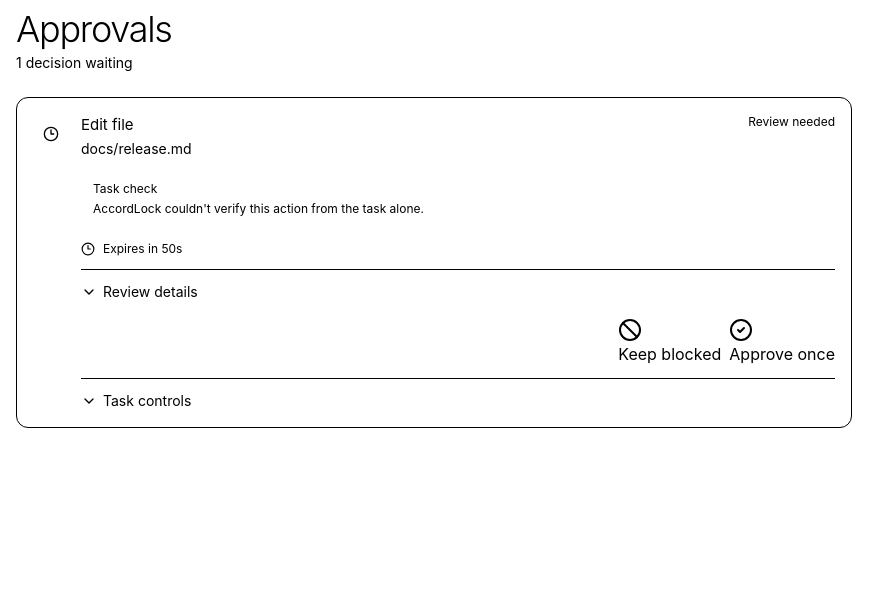
Test case: ApprovalCenter › fails closed when task access is not approved
Check: the button "Approve once" is disabled, box [729,318,835,366]
Check: the button "Keep blocked" is disabled, box [618,318,721,366]
Step 1. Click the heading "Task controls" → (136, 400), box [81,392,191,408]
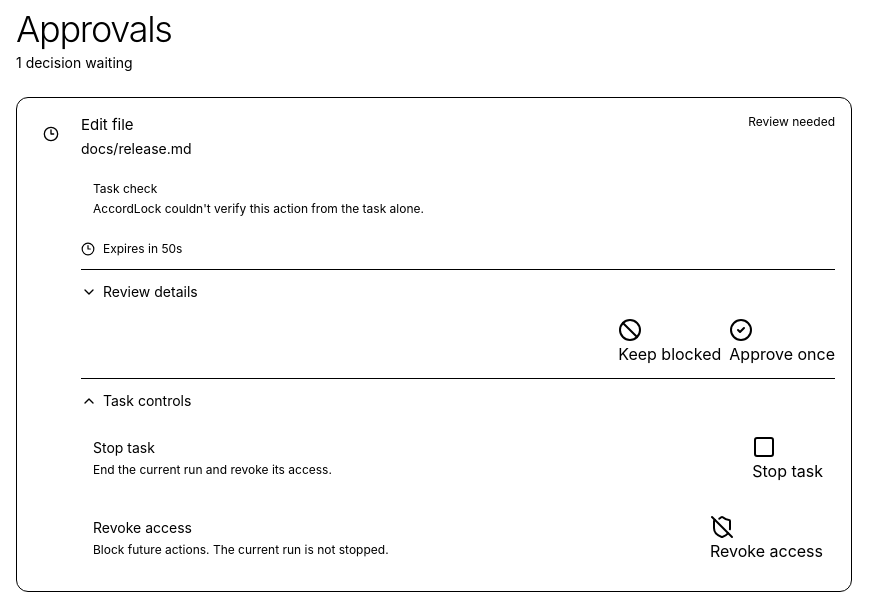
Check: the button "Stop task" is disabled, box [752,434,823,482]
Check: the button "Revoke access" is disabled, box [710,514,823,562]
